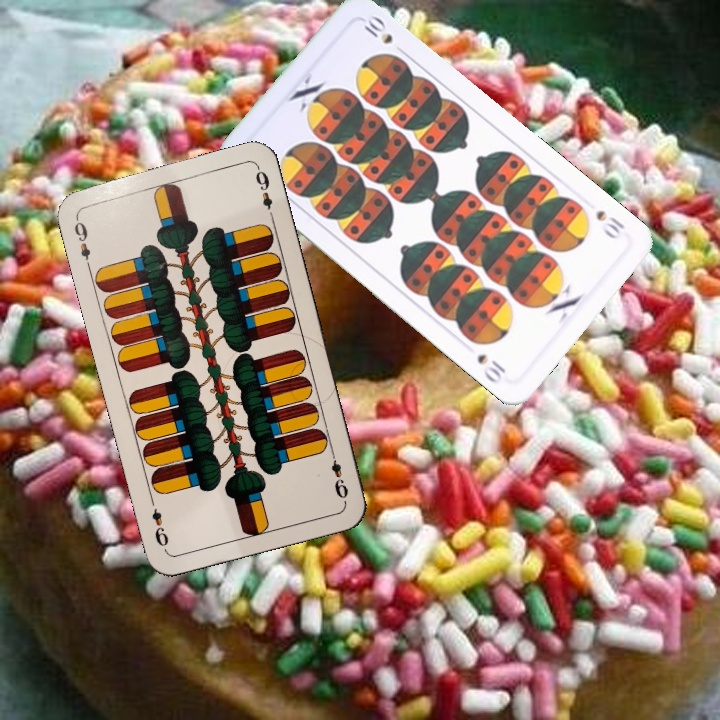E9: (70, 213, 94, 271), (327, 445, 351, 501)
S10: (592, 206, 628, 242)
